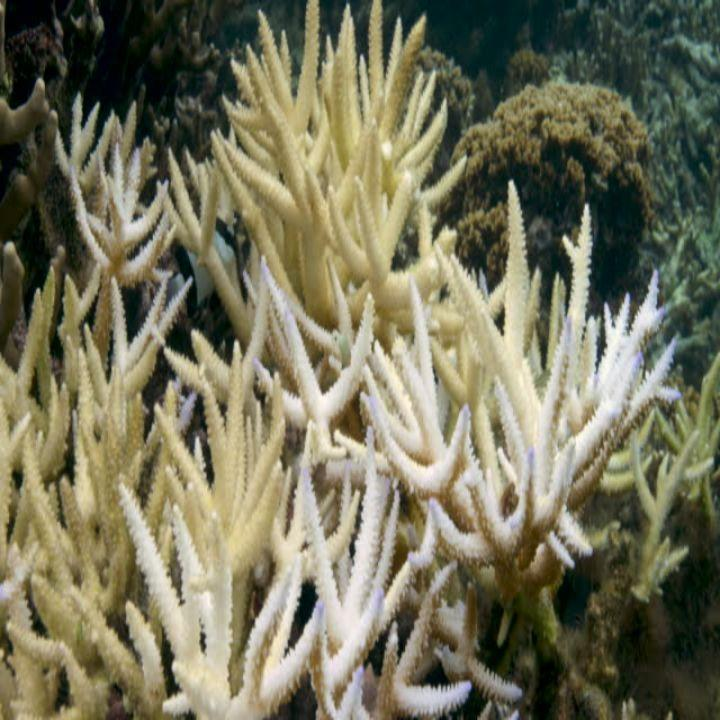Bleached disease: (117, 199, 671, 699)
